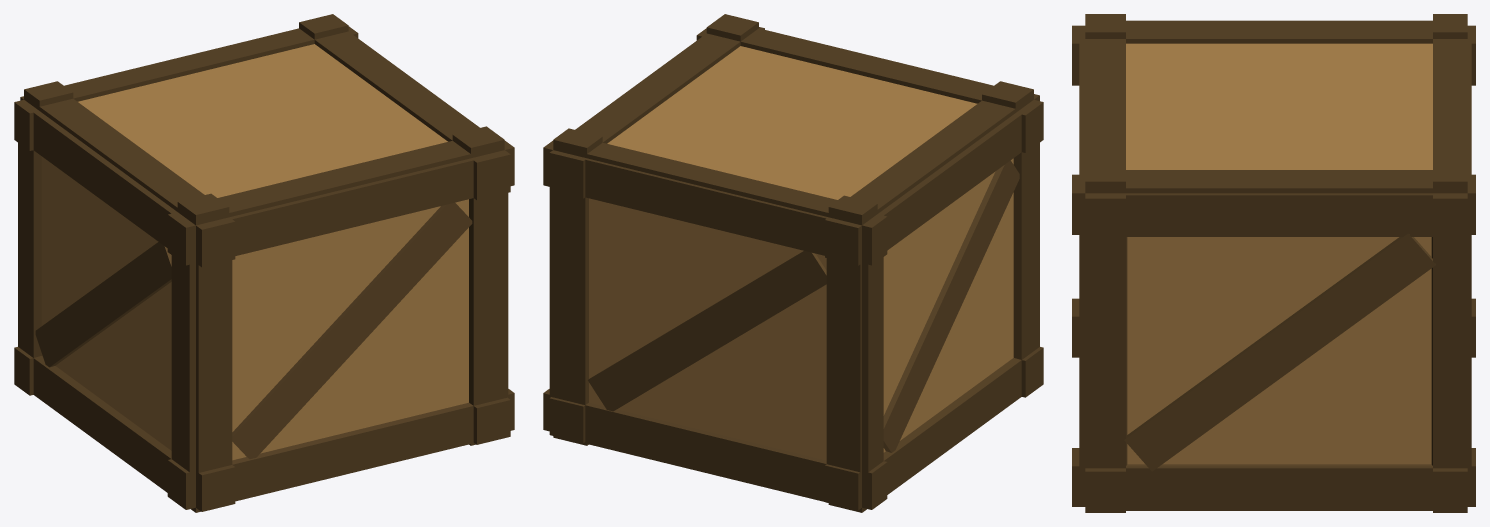
The picture shows the model from 3 angles, left to right: view 1: azimuth 30°, elevation 25°; view 2: azimuth 150°, elevation 25°; view 3: azimuth 270°, elevation 25°; orthographic projection. The views are drawn at different scales.
Parts seen in each view (by area): view 1: pCube1, pasted__pasted__pCube2, pasted__pCube2; view 2: pCube1, pCube2, pasted__pCube2; view 3: pCube1, pasted__pasted__pasted__pCube2.
Part boxes in pixels (x1,y1,x2,y2): pCube1: (14,14,514,512); pasted__pasted__pCube2: (232,202,472,458); pasted__pCube2: (35,242,171,367); pCube1: (543,14,1043,512); pCube2: (588,251,826,411); pasted__pCube2: (883,160,1019,452); pCube1: (1072,14,1475,512); pasted__pasted__pasted__pCube2: (1124,233,1435,471).
Bounding box in the file's own units: 8.91 × 7.72 × 8.52.
